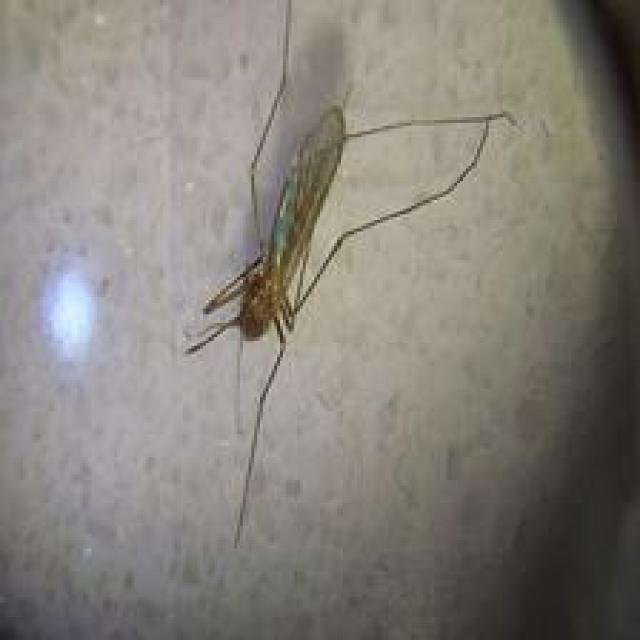Culex: (183, 0, 517, 549)
